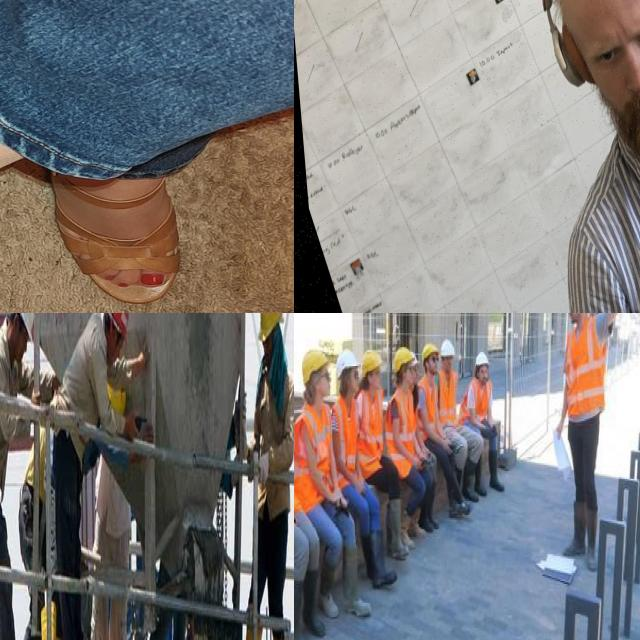No_Ear-Protection: (7, 313, 32, 372)
No_Glasses: (583, 15, 640, 75)
boots: (341, 556, 375, 622), (298, 567, 326, 639), (369, 539, 398, 588), (318, 560, 341, 621), (294, 578, 315, 640), (389, 517, 408, 562), (448, 494, 474, 524), (396, 515, 414, 553), (562, 532, 586, 560), (583, 539, 600, 577), (416, 504, 434, 532), (461, 480, 480, 506), (407, 515, 426, 540), (487, 469, 506, 494), (471, 476, 488, 499), (424, 506, 440, 529)
face_nomask: (317, 368, 334, 398), (369, 361, 383, 391), (347, 366, 360, 396), (401, 358, 413, 386), (426, 353, 438, 372), (567, 313, 581, 322)
hand_noglove: (328, 484, 349, 512), (438, 432, 453, 457), (354, 474, 366, 496), (410, 449, 420, 473)
head_helmet: (297, 349, 333, 383), (336, 348, 358, 378), (364, 350, 384, 376), (392, 344, 412, 369), (421, 338, 438, 358), (441, 341, 458, 358), (475, 352, 492, 364)
person: (552, 313, 640, 555), (463, 338, 518, 499), (296, 347, 340, 539), (340, 354, 363, 568), (390, 344, 420, 507), (436, 338, 466, 458), (364, 346, 388, 494), (420, 340, 445, 470)
vest: (564, 326, 604, 430), (297, 412, 331, 504), (388, 383, 417, 471), (338, 393, 358, 474), (462, 374, 494, 419), (363, 396, 380, 469), (441, 372, 458, 420), (422, 380, 436, 427)
